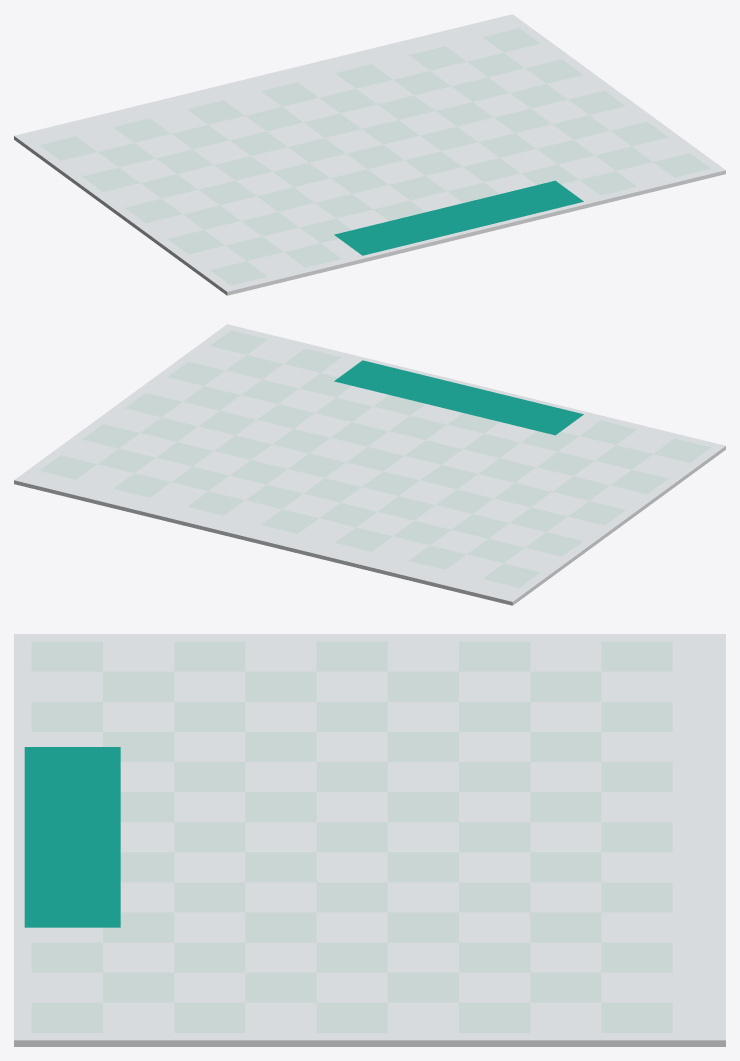
File: CM_Shell_Floor_CornerStore.fbx
The picture shows the model from 3 angles, top to bottom: view 1: azimuth 30°, elevation 25°; view 2: azimuth 150°, elevation 25°; view 3: azimuth 270°, elevation 25°; orthographic projection. The views are drawn at different scales.
Parts seen in each view (by area): view 1: Floor; view 2: Floor; view 3: Floor.
Part boxes in pixels (x1,y1,x2,y2): Floor: (14, 14, 725, 295); Floor: (14, 324, 725, 605); Floor: (14, 634, 725, 1046).
Bounding box in the file's own units: 54 × 40 × 0.402.
1 material, 1 textured.
